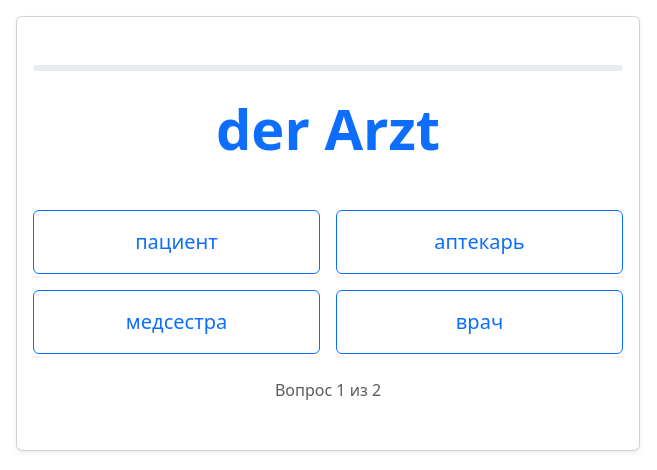
Scenario: VocabularyDrill.vue › завершает упражнение, вычисляет результат и отправляет СЫРЫЕ баллы на бэкенд
# Отвечаем правильно на первый вопрос
Click the button with class "option-btn" showing "врач" at [480, 322], box [336,290,623,354]
Wait 600 ms
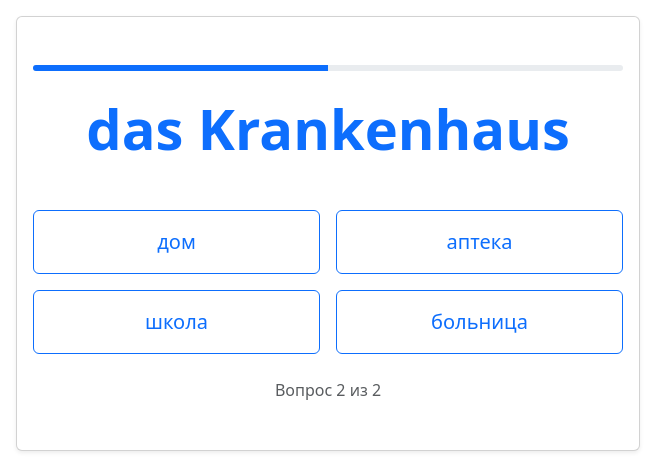
Click the button with class "option-btn" showing "больница" at [480, 322], box [336,290,623,354]
Wait 600 ms
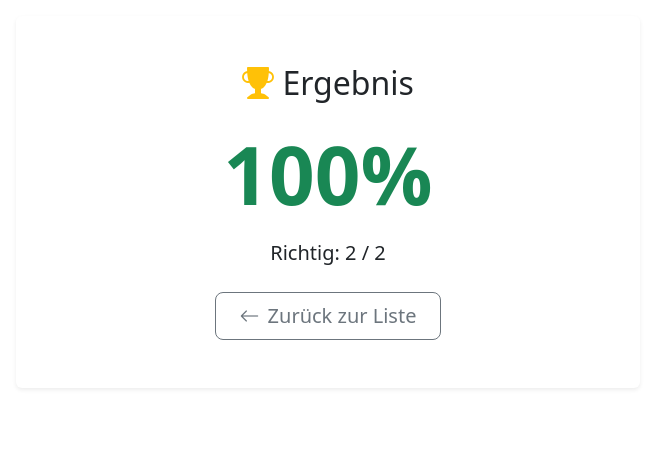
expect the text "Ergebnis" is shown: met, box [242,61,414,104]
expect the text "100%" is shown: met, box [223,119,433,228]
expect the text "Richtig: 2 / 2" is shown: met, box [270,239,386,266]
